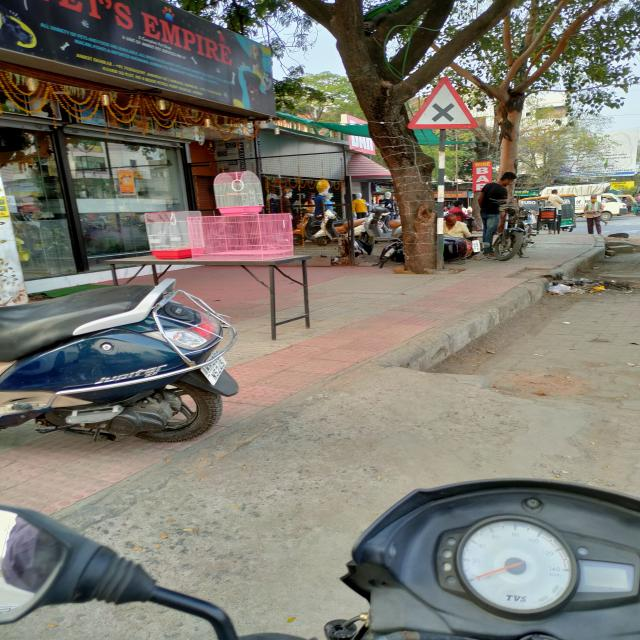CROSS_ROAD: (406, 77, 478, 129)
